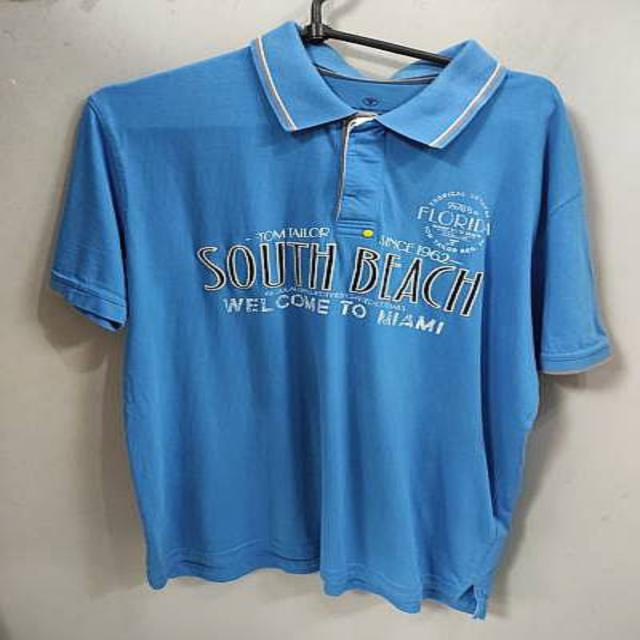T_SHIRT: (43, 16, 620, 624)
